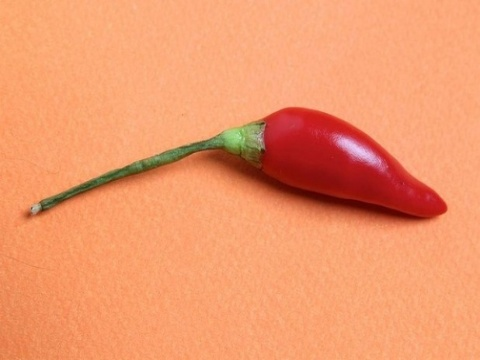Chilli: (164, 106, 459, 238)
